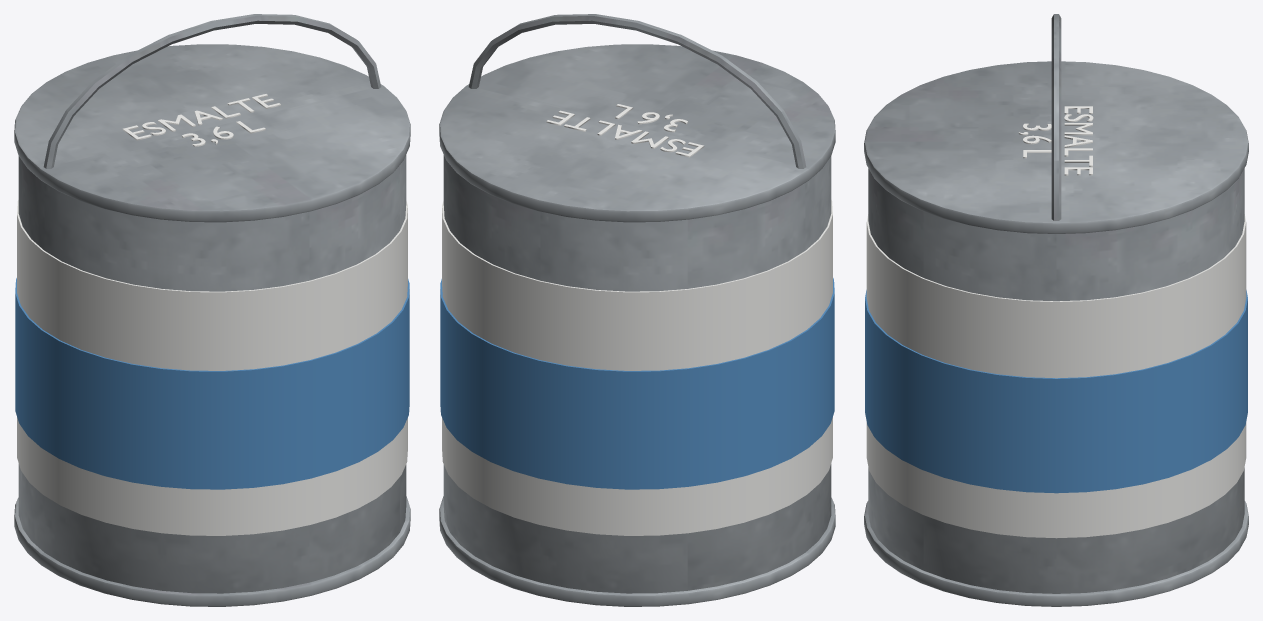
Rendered from PIN-TIN-004.glb.
3 renders of one model, left to right at view 1: azimuth 30°, elevation 25°; view 2: azimuth 150°, elevation 25°; view 3: azimuth 270°, elevation 25°, orthographic. The views are drawn at different scales.
Visible parts, largest first — view 1: PIN-TIN-004_aro, PIN-TIN-004_rotulo, PIN-TIN-004_lata, PIN-TIN-004_amostra, PIN-TIN-004_aro2, PIN-TIN-004_alca, PIN-TIN-004_texto; view 2: PIN-TIN-004_aro, PIN-TIN-004_rotulo, PIN-TIN-004_lata, PIN-TIN-004_amostra, PIN-TIN-004_aro2, PIN-TIN-004_alca, PIN-TIN-004_texto; view 3: PIN-TIN-004_aro, PIN-TIN-004_rotulo, PIN-TIN-004_lata, PIN-TIN-004_amostra, PIN-TIN-004_aro2, PIN-TIN-004_alca, PIN-TIN-004_texto.
Part boxes in pixels (x1,y1,x2,y2): PIN-TIN-004_aro: [14, 44, 410, 222]; PIN-TIN-004_rotulo: [17, 200, 407, 535]; PIN-TIN-004_lata: [18, 155, 406, 593]; PIN-TIN-004_amostra: [15, 278, 409, 489]; PIN-TIN-004_aro2: [14, 496, 410, 606]; PIN-TIN-004_alca: [43, 14, 381, 168]; PIN-TIN-004_texto: [122, 94, 280, 146]; PIN-TIN-004_aro: [439, 44, 835, 222]; PIN-TIN-004_rotulo: [442, 200, 832, 535]; PIN-TIN-004_lata: [443, 155, 831, 593]; PIN-TIN-004_amostra: [440, 278, 834, 489]; PIN-TIN-004_aro2: [439, 496, 835, 606]; PIN-TIN-004_alca: [468, 14, 806, 168]; PIN-TIN-004_texto: [546, 104, 704, 157]; PIN-TIN-004_aro: [864, 61, 1248, 233]; PIN-TIN-004_rotulo: [866, 214, 1246, 538]; PIN-TIN-004_lata: [868, 168, 1244, 593]; PIN-TIN-004_amostra: [865, 290, 1247, 493]; PIN-TIN-004_aro2: [864, 501, 1248, 606]; PIN-TIN-004_alca: [1051, 14, 1061, 220]; PIN-TIN-004_texto: [1018, 106, 1093, 175].
Size of the model in its own units: 0.174 by 0.2429 by 0.174.
Materials: 4 (1 with a texture image).
